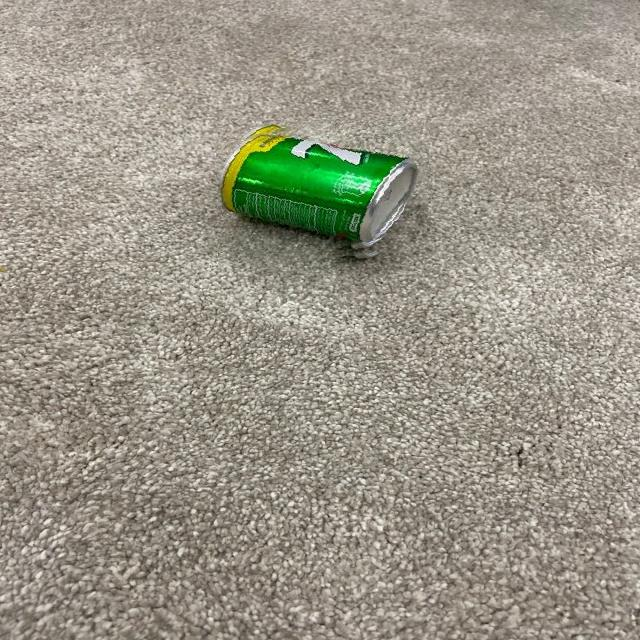recyclable: (218, 120, 430, 265)
